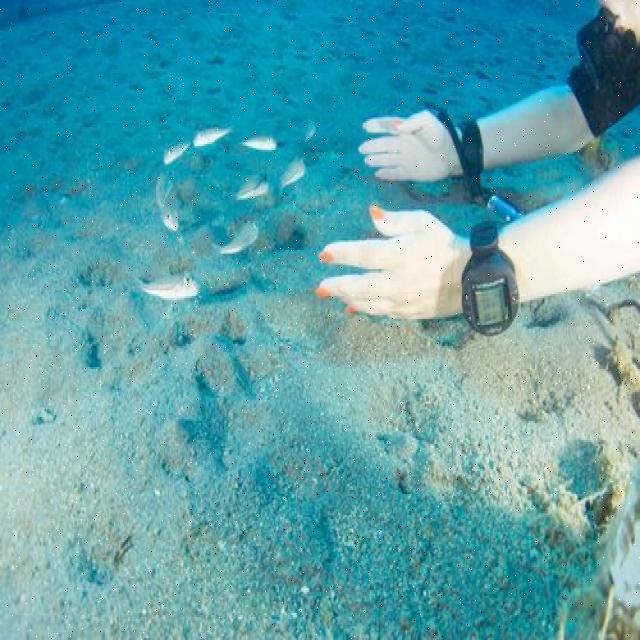Balik: (139, 275, 199, 301), (214, 222, 258, 255), (155, 175, 179, 232), (281, 158, 305, 188), (194, 129, 231, 147), (237, 179, 268, 199), (164, 143, 190, 165), (241, 137, 277, 151)
